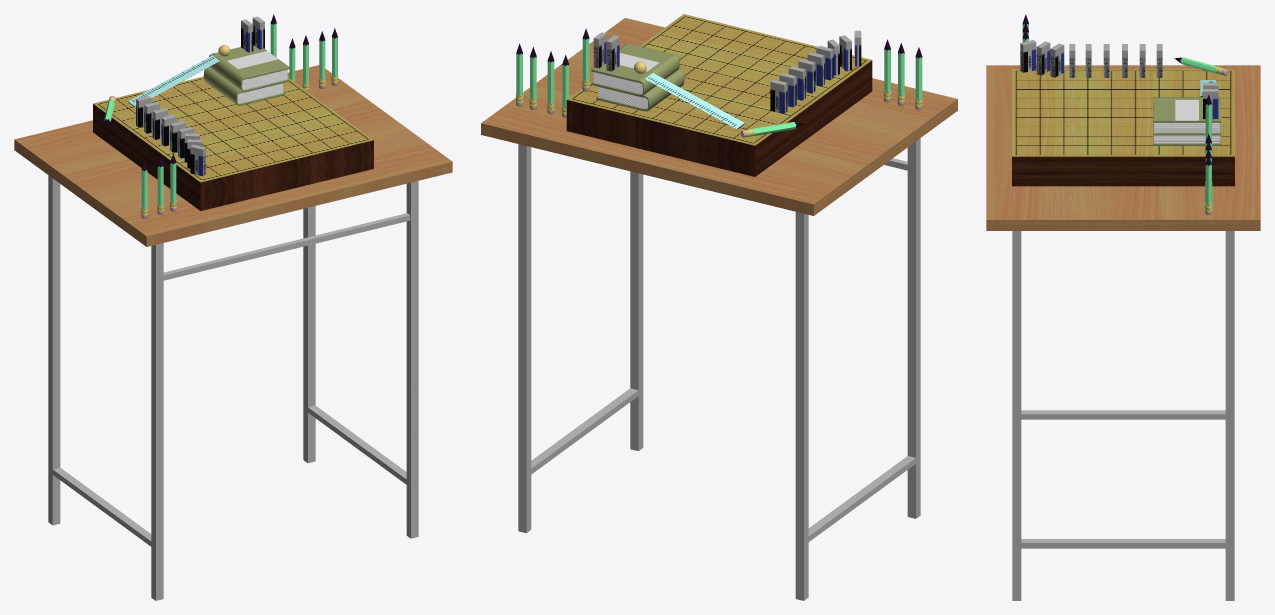
The model's file is slider_on_desk_limes.glb.
The picture shows the model from 3 angles, left to right: view 1: azimuth 30°, elevation 25°; view 2: azimuth 150°, elevation 25°; view 3: azimuth 270°, elevation 25°; orthographic projection. The views are drawn at different scales.
Visible parts, largest first — view 1: board, desk_top, desk_leg4, desk_leg2, desk_leg3, desk_leg1, book_close_paper.016_Cube.017, desk_bar_top_1to3, desk_bar_bottom_3to4, desk_bar_bottom_1to2, book_close_paper.016_Cube.001, Ruler; view 2: board, desk_top, desk_leg3, desk_leg1, desk_leg4, desk_leg2, book_close_paper.016_Cube.017, desk_bar_bottom_3to4, desk_bar_bottom_1to2, book_close_paper.016_Cube.001, Ruler; view 3: board, desk_top, desk_leg1, desk_leg2, book_close_paper.016_Cube.017, desk_bar_bottom_1to2, desk_bar_bottom_3to4, book_close_paper.016_Cube.001, eraser11, eraser09, eraser10, Dwarf_Pencil06 (+1 smaller).
Part boxes in pixels (x1,y1,x2,y2): board: (93, 76, 373, 210); desk_top: (14, 65, 452, 246); desk_leg4: (151, 243, 163, 600); desk_leg2: (406, 181, 418, 538); desk_leg3: (48, 175, 60, 525); desk_leg1: (303, 206, 315, 463); book_close_paper.016_Cube.017: (209, 45, 289, 91); desk_bar_top_1to3: (163, 213, 410, 280); desk_bar_bottom_3to4: (50, 467, 153, 546); desk_bar_bottom_1to2: (308, 405, 408, 485); book_close_paper.016_Cube.001: (203, 67, 284, 105); Ruler: (128, 55, 219, 107); board: (566, 14, 872, 176); desk_top: (481, 18, 957, 215); desk_leg3: (795, 212, 808, 600); desk_leg1: (518, 144, 531, 533); desk_leg4: (907, 138, 920, 518); desk_leg2: (630, 171, 643, 450); book_close_paper.016_Cube.017: (591, 43, 679, 96); desk_bar_bottom_3to4: (808, 456, 918, 541); desk_bar_bottom_1to2: (529, 388, 638, 474); book_close_paper.016_Cube.001: (596, 69, 684, 111); Ruler: (645, 73, 744, 129); board: (1012, 69, 1234, 186); desk_top: (986, 65, 1260, 230); desk_leg1: (1225, 231, 1234, 600); desk_leg2: (1012, 231, 1021, 600); book_close_paper.016_Cube.017: (1153, 97, 1221, 135); desk_bar_bottom_1to2: (1017, 539, 1229, 548); desk_bar_bottom_3to4: (1021, 410, 1225, 419); book_close_paper.016_Cube.001: (1153, 135, 1221, 145); eraser11: (1020, 40, 1036, 72); eraser09: (1050, 43, 1064, 77); eraser10: (1036, 41, 1050, 75); Dwarf_Pencil06: (1174, 57, 1228, 75).
Size of the model in its own units: 12 by 17.44 by 9.
24 materials, 16 textured.
